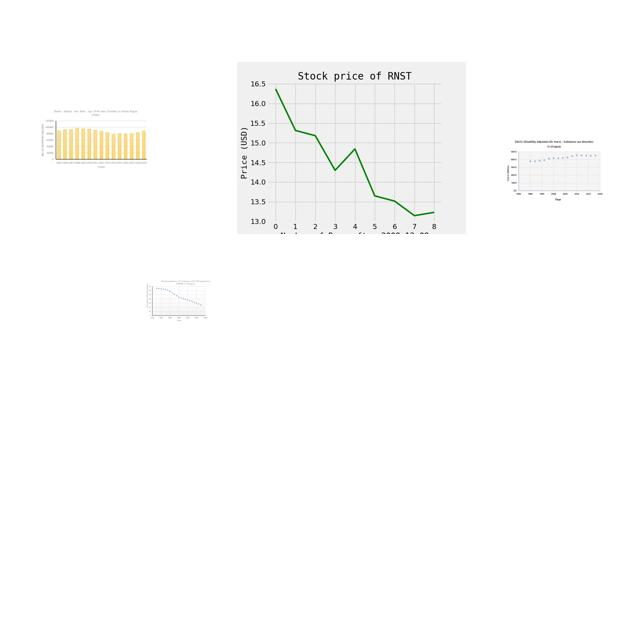Graph: (237, 62, 466, 234), (39, 108, 149, 171), (505, 138, 604, 202), (146, 278, 211, 323)
